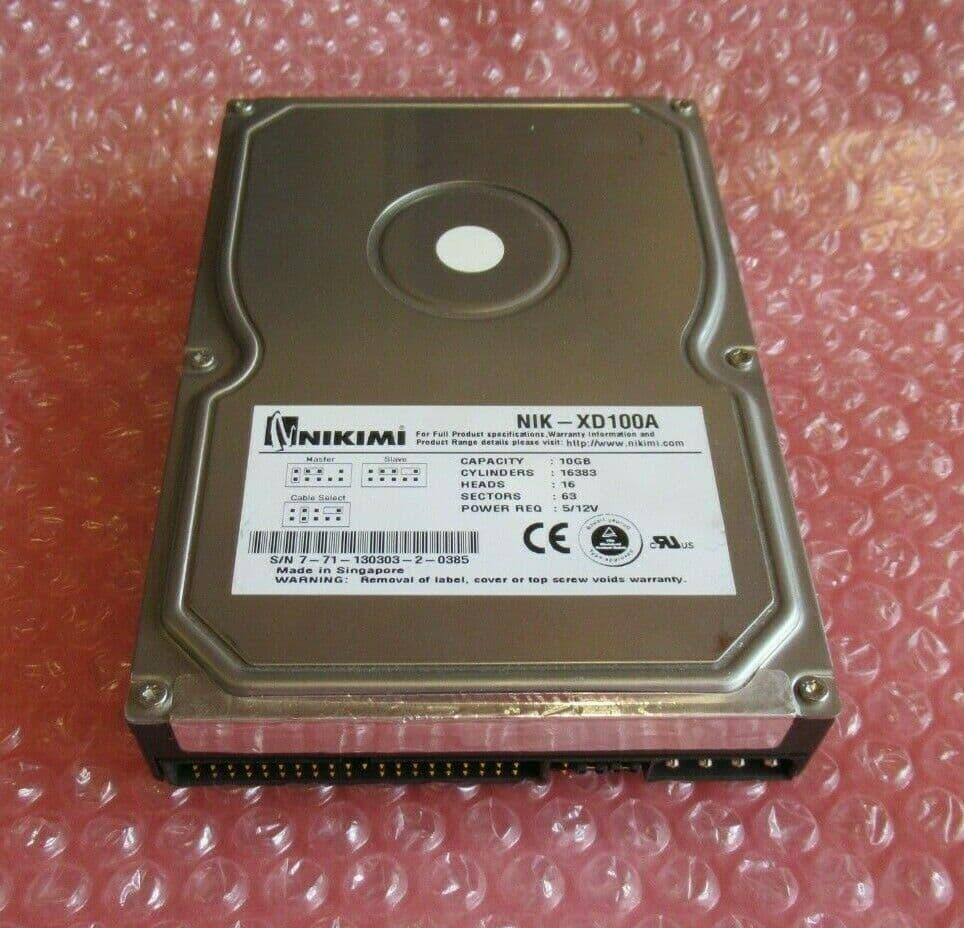internal HDD: (123, 97, 841, 792)
